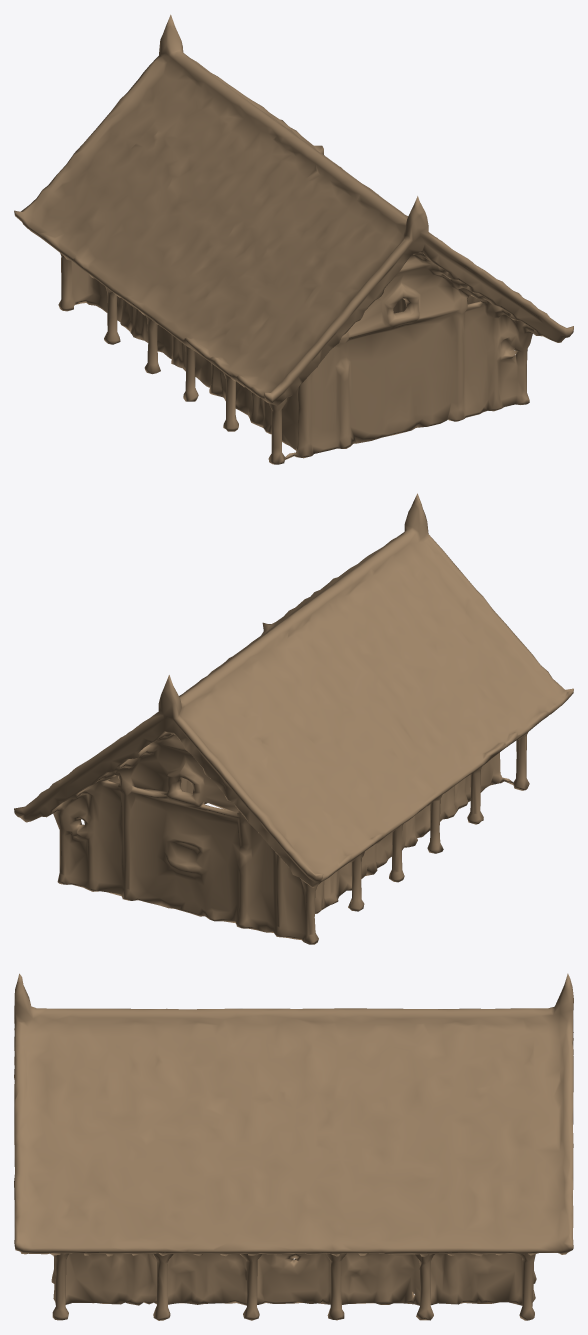
File: Marketplace_final.glb
The picture shows the model from 3 angles, top to bottom: view 1: azimuth 30°, elevation 25°; view 2: azimuth 150°, elevation 25°; view 3: azimuth 270°, elevation 25°; orthographic projection. The views are drawn at different scales.
Parts seen in each view (by area): view 1: tmpbxgwhkss.ply; view 2: tmpbxgwhkss.ply; view 3: tmpbxgwhkss.ply.
Part boxes in pixels (box(x1,y1,x2,y2)): tmpbxgwhkss.ply: box(14, 14, 573, 464); tmpbxgwhkss.ply: box(14, 493, 573, 944); tmpbxgwhkss.ply: box(14, 973, 573, 1320).
Size of the model in its own units: 1.39 by 1.08 by 1.96.
